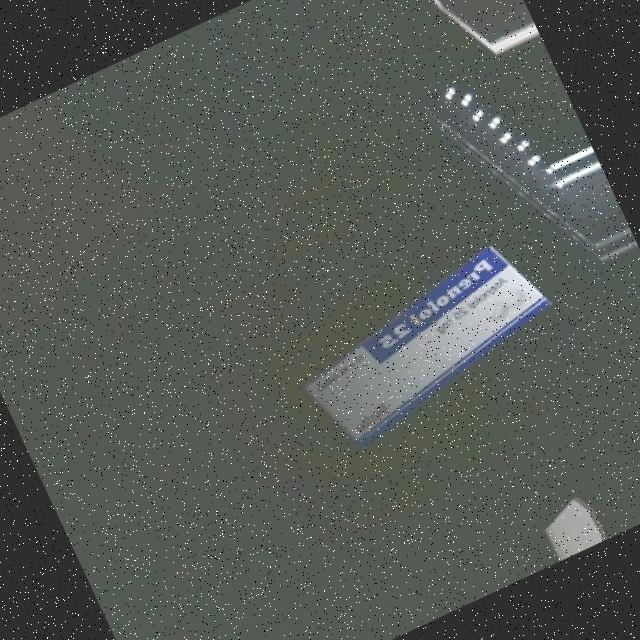prenolol: (284, 233, 575, 461)
